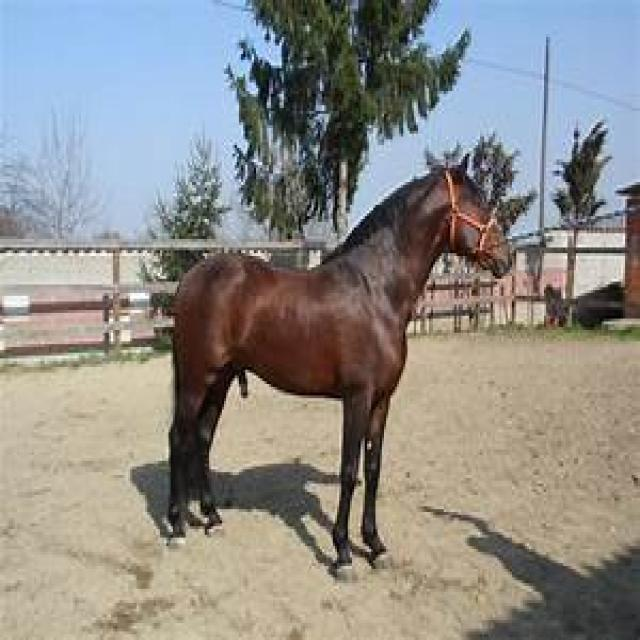horse: (156, 165, 514, 575)
